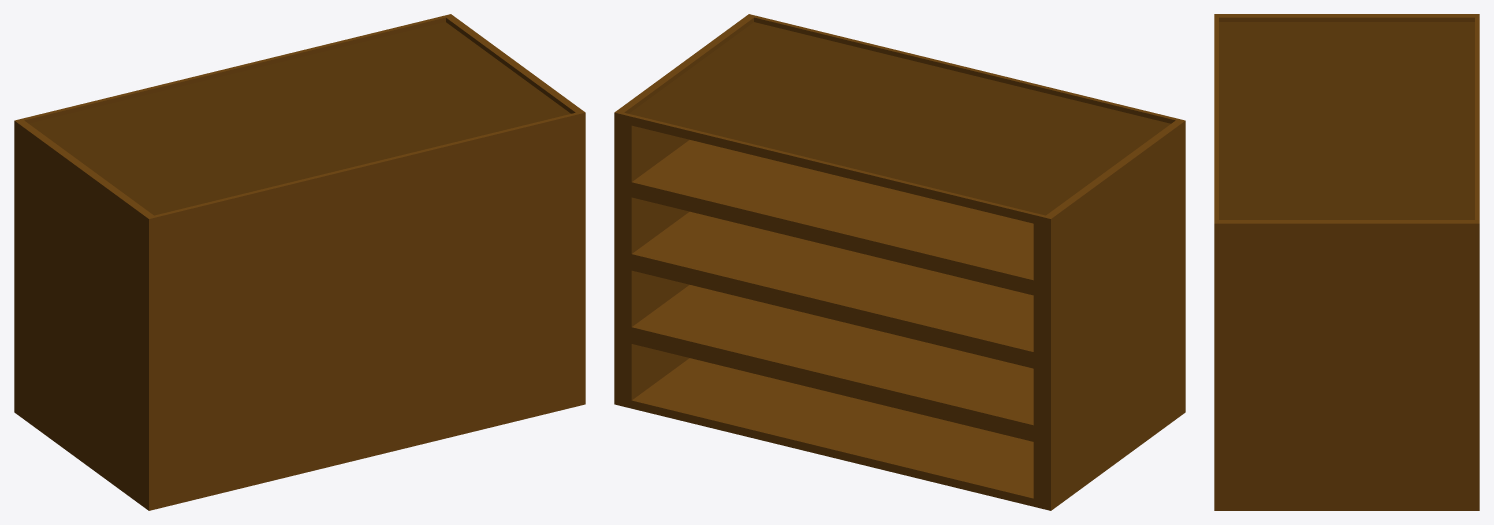
File: Dresser.fbx
3 views of the same model, side by side, from view 1: azimuth 30°, elevation 25°; view 2: azimuth 150°, elevation 25°; view 3: azimuth 270°, elevation 25° (orthographic).
Parts seen in each view (by area): view 1: Cube.052; view 2: Cube.052; view 3: Cube.052.
Part boxes in pixels (<box>): Cube.052: <box>14,14,585,510</box>; Cube.052: <box>614,14,1185,510</box>; Cube.052: <box>1214,14,1479,510</box>.
Size of the model in its own units: 184 by 118 by 98.48.
